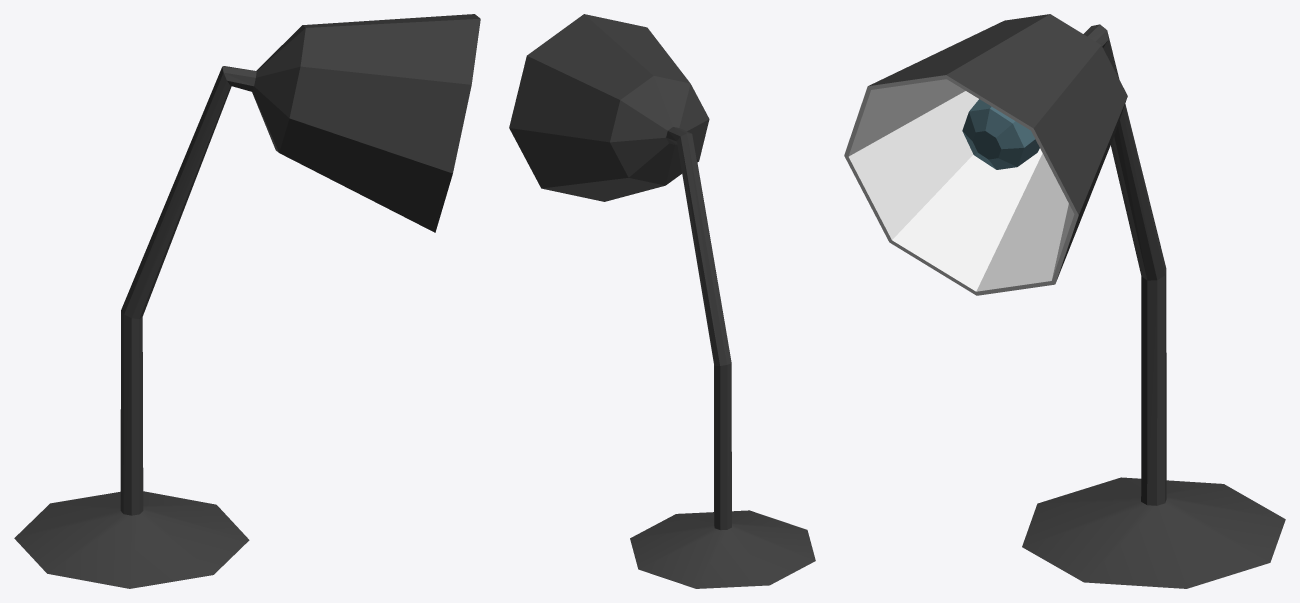
Rendered from ThaLamp.FBX.
3 renders of one model, left to right at view 1: azimuth 30°, elevation 25°; view 2: azimuth 150°, elevation 25°; view 3: azimuth 270°, elevation 25°, orthographic. The views are drawn at different scales.
Visible parts, largest first — view 1: Lampara; view 2: Lampara; view 3: Lampara.
Boxes of the visible parts, x1=… form: Lampara: x1=14, y1=14, x2=480, y2=588; Lampara: x1=509, y1=14, x2=815, y2=588; Lampara: x1=844, y1=14, x2=1285, y2=588.
Size of the model in its own units: 0.8553 by 1.09 by 0.7232.
